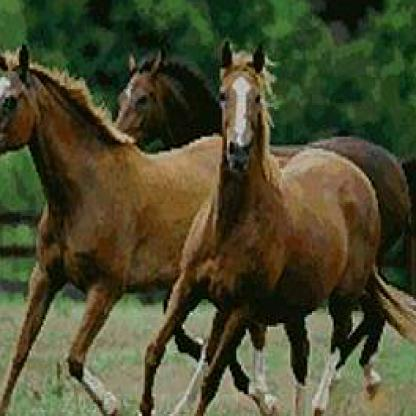horse: (137, 40, 381, 414), (1, 44, 220, 414)
